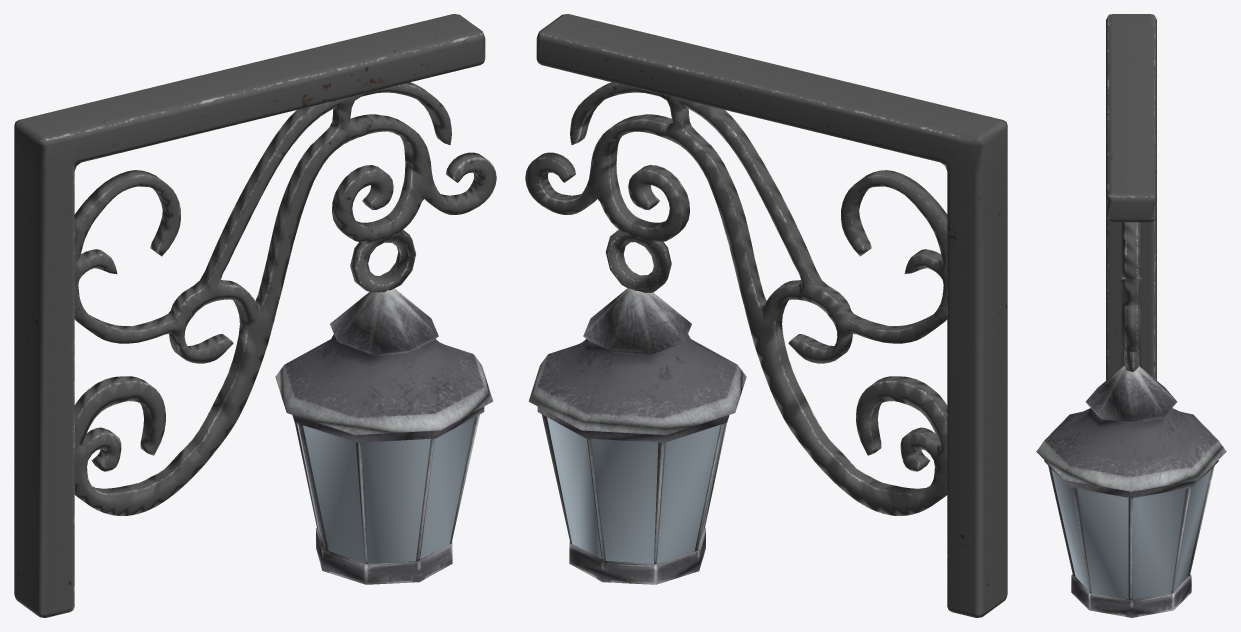
Rendered from pole_wall_01.fbx.
The picture shows the model from 3 angles, left to right: view 1: azimuth 30°, elevation 25°; view 2: azimuth 150°, elevation 25°; view 3: azimuth 270°, elevation 25°; orthographic projection. The views are drawn at different scales.
Visible parts, largest first — view 1: pole_wall_01, case_top_lamp03_0.001, glass_lamp03.001, case_bottom_lamp03_0.001, sides28_lamp03; view 2: pole_wall_01, case_top_lamp03_0.001, glass_lamp03.001, case_bottom_lamp03_0.001, sides28_lamp03; view 3: pole_wall_01, case_top_lamp03_0.001, glass_lamp03.001, case_bottom_lamp03_0.001, sides28_lamp03.
Boxes of the visible parts, x1=… form: pole_wall_01: x1=14, y1=14, x2=496, y2=617; case_top_lamp03_0.001: x1=275, y1=288, x2=493, y2=442; glass_lamp03.001: x1=297, y1=417, x2=474, y2=563; case_bottom_lamp03_0.001: x1=316, y1=528, x2=452, y2=584; sides28_lamp03: x1=295, y1=414, x2=479, y2=564; pole_wall_01: x1=525, y1=14, x2=1007, y2=617; case_top_lamp03_0.001: x1=528, y1=288, x2=746, y2=442; glass_lamp03.001: x1=547, y1=417, x2=724, y2=563; case_bottom_lamp03_0.001: x1=569, y1=528, x2=705, y2=584; sides28_lamp03: x1=542, y1=414, x2=726, y2=564; pole_wall_01: x1=1106, y1=14, x2=1156, y2=380; case_top_lamp03_0.001: x1=1036, y1=365, x2=1226, y2=498; glass_lamp03.001: x1=1051, y1=469, x2=1211, y2=599; case_bottom_lamp03_0.001: x1=1071, y1=574, x2=1191, y2=617; sides28_lamp03: x1=1048, y1=466, x2=1214, y2=600.
Bounding box in the file's own units: 0.956 × 0.3996 × 1.
2 materials, 2 textured.
